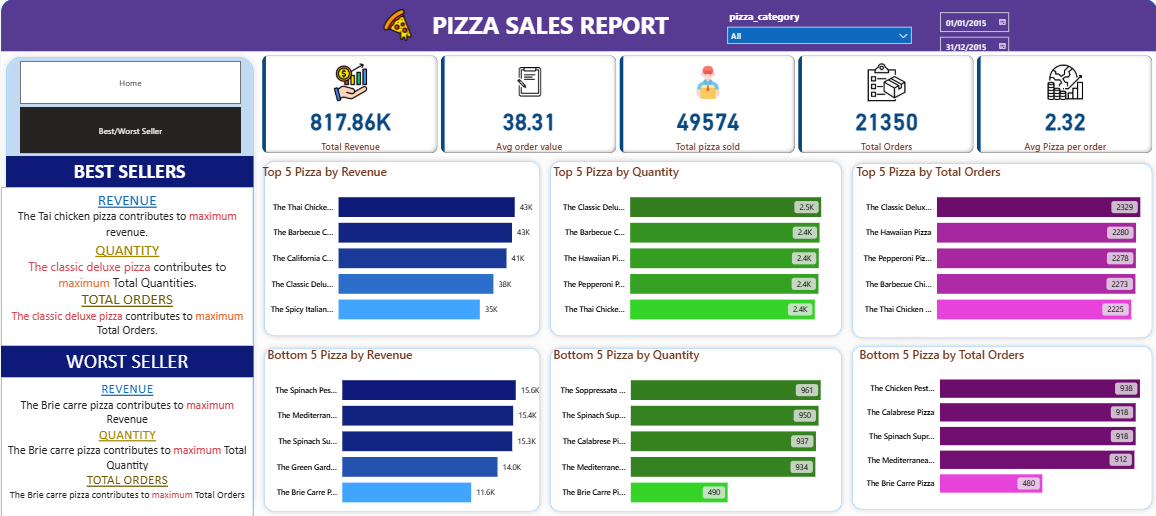

The page's visual inventory and layout, read from the dashboard file:
{"tool":"powerbi","page":{"name":" Page 3","canvas":[1280,720],"ordinal":2},"visuals":[{"type":"textbox","box":[0,0,568.5,73.7],"z":0},{"type":"card","title":"Total Revenue","fields":{"Values":["Sum(unified_mentor pizza_sales.total_price)"]},"box":[0,73.7,246,100.1],"z":1000},{"type":"card","title":"Average Order Value","fields":{"Values":["unified_mentor pizza_sales.Average order value"]},"box":[246,73.7,268.3,100.1],"z":2000},{"type":"card","title":"Total Pizza Sold","fields":{"Values":["Sum(unified_mentor pizza_sales.quantity)"]},"box":[514.3,73.7,247.4,100.1],"z":3000},{"type":"card","title":"Total Orders","fields":{"Values":["Count(unified_mentor pizza_sales.order_id)"]},"box":[761.7,73.7,262.7,100.1],"z":4000},{"type":"card","title":"Avg Pizza Per Order","fields":{"Values":["unified_mentor pizza_sales.Avg_pizza_per_order"]},"box":[1024.4,73.7,255.8,100.1],"z":5000},{"type":"barChart","title":"Top 5 Pizza Names by Quantity","fields":{"Y":["Sum(pizza_quantity.Total_pizza_sold)"],"Category":["pizza_quantity.pizza_name"]},"box":[0,443.4,656.1,276.6],"z":6000},{"type":"barChart","title":"Bottom 5 Pizza Names by Quantity","fields":{"Category":["bottom_pizza_sales.pizza_name"],"Y":["Sum(bottom_pizza_sales.Total_revenue)"]},"box":[656.1,443.4,624.1,276.6],"z":7000},{"type":"slicer","fields":{"Values":["pizza_sales.pizza_category"]},"box":[568.5,0,325.3,73.7],"z":8000},{"type":"slicer","fields":{"Values":["pizza_sales.order_date"]},"box":[893.6,0,386.4,73.7],"z":9000},{"type":"barChart","title":"Top 5 Pizza Names by Total Orders","fields":{"Category":["pizza_total_orders.pizza_name"],"Y":["Sum(pizza_total_orders.Total_Orders)"]},"box":[0,173.7,638,269.7],"z":10000},{"type":"barChart","title":"Bottom 5 Pizza Names by Total Orders","fields":{"Category":["bottom_pizza_orders.pizza_name"],"Y":["Sum(bottom_pizza_orders.Total_pizza_sold)"]},"box":[642.2,173.7,638,269.7],"z":11000},{"type":"image","box":[474,0,94.5,73.7],"z":12000}]}

Visuals, with their boxes on the page's 1280x720 design canvas (x1, y1, x2, y2). These are canvas units, not pixel positions in the 1156x516 screenshot, which may show the page scaled, cropped or inside an application window:
textbox: locate(0, 0, 568, 74)
"Total Revenue" card: locate(0, 74, 246, 174)
"Average Order Value" card: locate(246, 74, 514, 174)
"Total Pizza Sold" card: locate(514, 74, 762, 174)
"Total Orders" card: locate(762, 74, 1024, 174)
"Avg Pizza Per Order" card: locate(1024, 74, 1280, 174)
"Top 5 Pizza Names by Quantity" barChart: locate(0, 443, 656, 720)
"Bottom 5 Pizza Names by Quantity" barChart: locate(656, 443, 1280, 720)
slicer - pizza_sales.pizza_category: locate(568, 0, 894, 74)
slicer - pizza_sales.order_date: locate(894, 0, 1280, 74)
"Top 5 Pizza Names by Total Orders" barChart: locate(0, 174, 638, 443)
"Bottom 5 Pizza Names by Total Orders" barChart: locate(642, 174, 1280, 443)
image: locate(474, 0, 568, 74)
